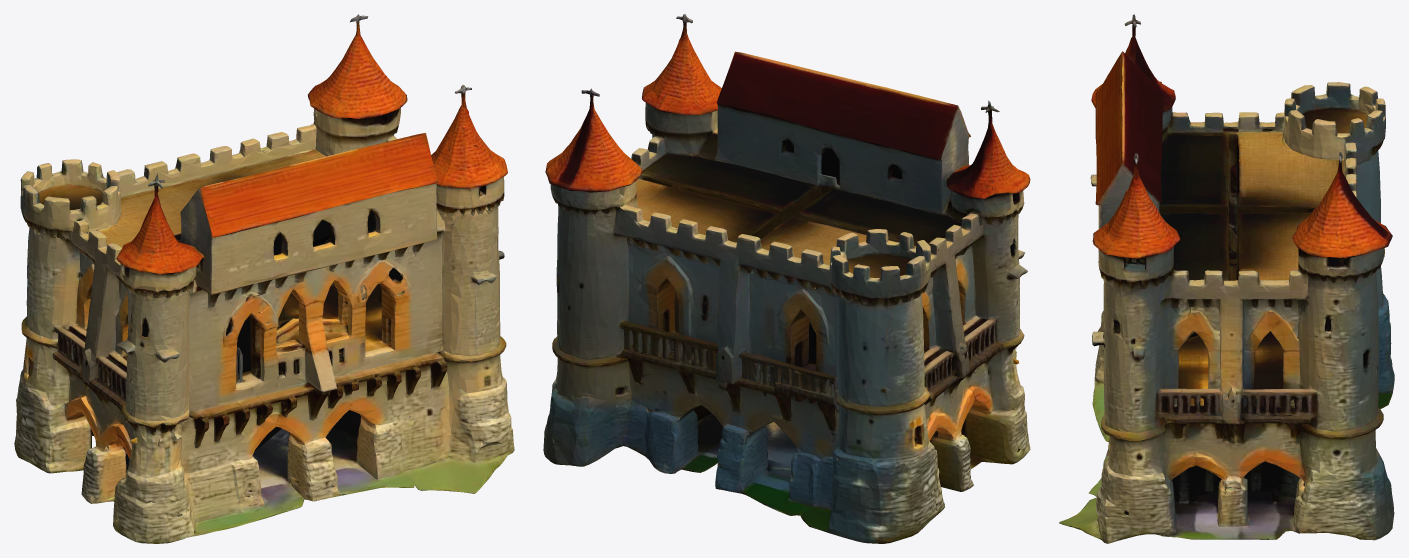
File: landmark_destroyed_watchtower.glb
3 views of the same model, side by side, from view 1: azimuth 30°, elevation 25°; view 2: azimuth 150°, elevation 25°; view 3: azimuth 270°, elevation 25° (orthographic). The views are drawn at different scales.
Visible parts, largest first — view 1: geometry_0; view 2: geometry_0; view 3: geometry_0.
Boxes of the visible parts, left/top/right/bottom form: geometry_0: left=14, top=14, right=514, bottom=543; geometry_0: left=543, top=14, right=1030, bottom=543; geometry_0: left=1059, top=14, right=1394, bottom=543.
Size of the model in its own units: 1 by 0.9341 by 0.7413.
Materials: 1 (1 with a texture image).
